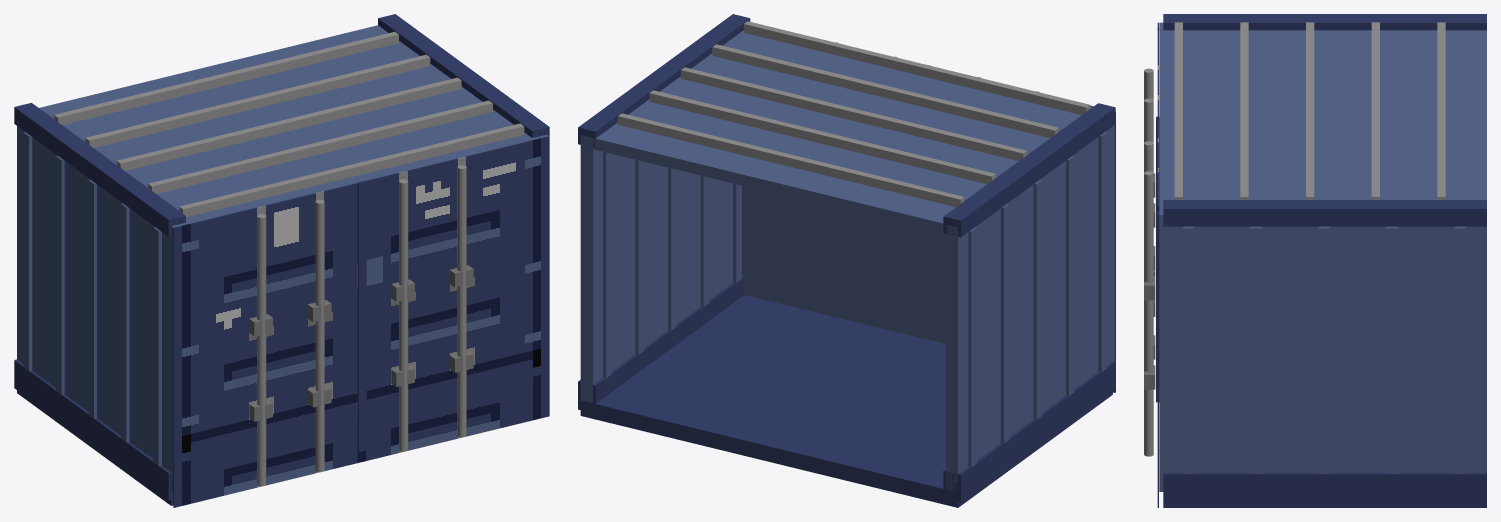
The model's file is CMU3DContainerVerticalBottomCloud.glb.
3 renders of one model, left to right at view 1: azimuth 30°, elevation 25°; view 2: azimuth 150°, elevation 25°; view 3: azimuth 270°, elevation 25°, orthographic. The views are drawn at different scales.
Visible parts, largest first — view 1: source blue door paint 1, source blue door paint 0, steel roof sheet, long corrugated shell side, raised physical side corrugation (×5), steel door locking rod (×4), long upper side rail (×2), lower side skid, raised transverse roof corrugation 0, raised transverse roof corrugation 2, raised transverse roof corrugation 3, raised transverse roof corrugation 4 (+5 smaller); view 2: long corrugated shell side (×2), continuous container floor, steel roof sheet, closed door leaf 1, raised physical side corrugation (×10), long upper side rail (×2), lower side skid (×2), raised transverse roof corrugation 1, raised transverse roof corrugation 3, raised transverse roof corrugation 4, raised transverse roof corrugation 2, raised transverse roof corrugation 0 (+1 smaller); view 3: long corrugated shell side, steel roof sheet, raised physical side corrugation (×5), long upper side rail (×2), lower side skid, closed door leaf 1, steel door locking rod (×2), continuous container floor, raised transverse roof corrugation 0, raised transverse roof corrugation 1, raised transverse roof corrugation 2, raised transverse roof corrugation 3 (+4 smaller).
Boxes of the visible parts, x1,y1,x2,y2 form: source blue door paint 1: [357, 136, 549, 462]; source blue door paint 0: [173, 183, 357, 507]; steel roof sheet: [39, 25, 525, 222]; long corrugated shell side: [17, 126, 171, 470]; raised physical side corrugation (×5): [23, 132, 161, 466]; steel door locking rod (×4): [257, 165, 466, 486]; long upper side rail (×2): [14, 14, 549, 236]; lower side skid: [14, 359, 173, 500]; raised transverse roof corrugation 0: [179, 123, 524, 217]; raised transverse roof corrugation 2: [116, 77, 461, 170]; raised transverse roof corrugation 3: [85, 54, 430, 147]; raised transverse roof corrugation 4: [54, 31, 398, 125]; long corrugated shell side (×2): [580, 126, 1112, 491]; continuous container floor: [580, 295, 1112, 507]; steel roof sheet: [593, 30, 1090, 235]; closed door leaf 1: [742, 185, 922, 338]; raised physical side corrugation (×10): [603, 132, 1106, 467]; long upper side rail (×2): [578, 14, 1115, 237]; lower side skid (×2): [578, 276, 1115, 502]; raised transverse roof corrugation 1: [712, 44, 1058, 137]; raised transverse roof corrugation 3: [649, 90, 995, 184]; raised transverse roof corrugation 4: [618, 113, 964, 206]; raised transverse roof corrugation 2: [681, 67, 1027, 160]; raised transverse roof corrugation 0: [744, 21, 1090, 114]; long corrugated shell side: [1163, 226, 1486, 472]; steel roof sheet: [1163, 30, 1486, 199]; raised physical side corrugation (×5): [1183, 226, 1465, 474]; long upper side rail (×2): [1163, 14, 1486, 226]; lower side skid: [1163, 472, 1486, 503]; closed door leaf 1: [1159, 116, 1175, 491]; steel door locking rod (×2): [1144, 98, 1153, 456]; continuous container floor: [1163, 503, 1486, 507]; raised transverse roof corrugation 0: [1174, 22, 1182, 199]; raised transverse roof corrugation 1: [1240, 22, 1248, 199]; raised transverse roof corrugation 2: [1306, 22, 1314, 199]; raised transverse roof corrugation 3: [1371, 22, 1379, 199].
Size of the model in its own units: 1.43 by 1.03 by 1.06.
6 materials, 2 textured.
